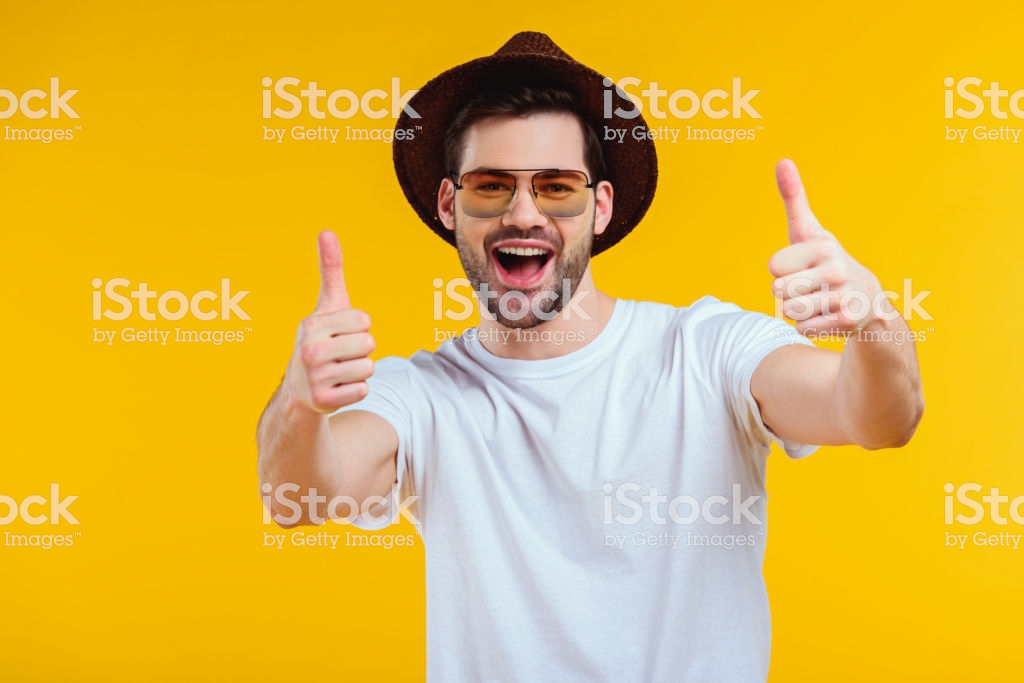thumbsup: (765, 155, 873, 345), (293, 226, 377, 414)
